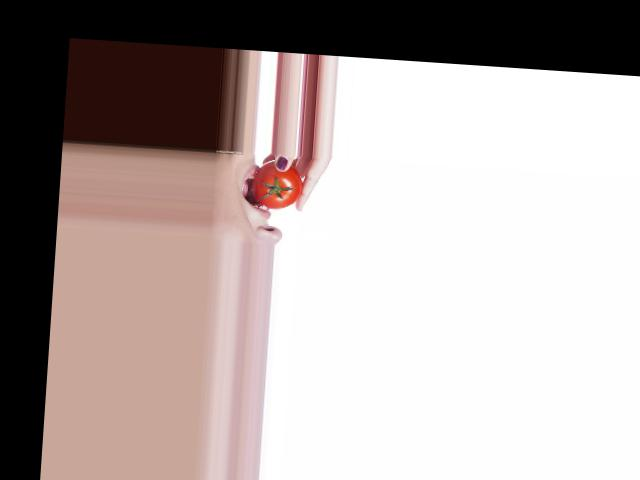tomato: (252, 158, 305, 210)
